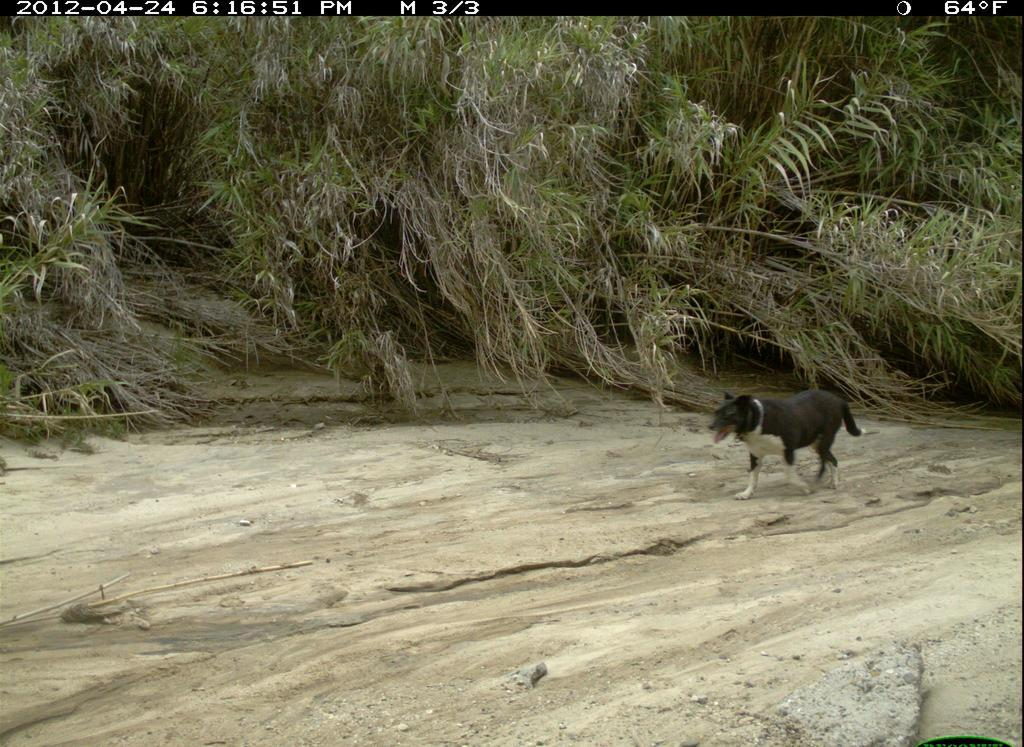dog: (703, 378, 868, 509)
